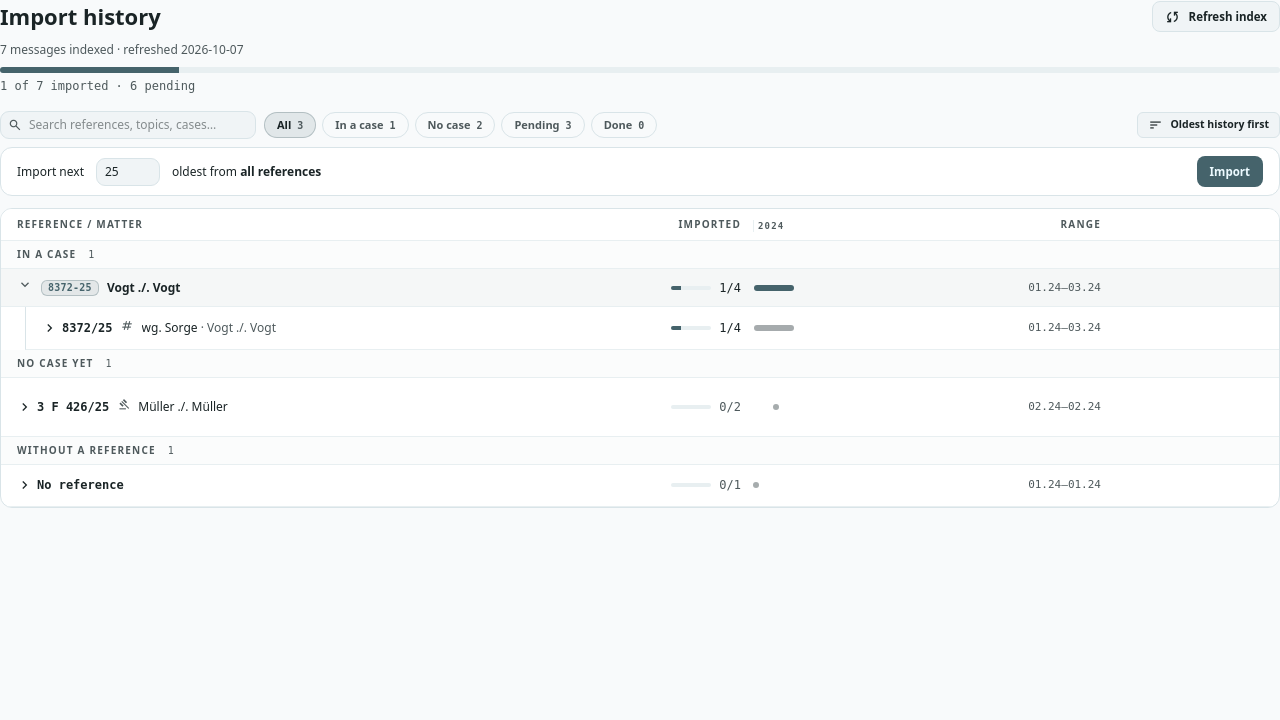
Test: import: expanding a group shows its messages, already imported ones cannot be picked
Click the button named "Expand 8372/25": (77, 328) [42,319,113,337]
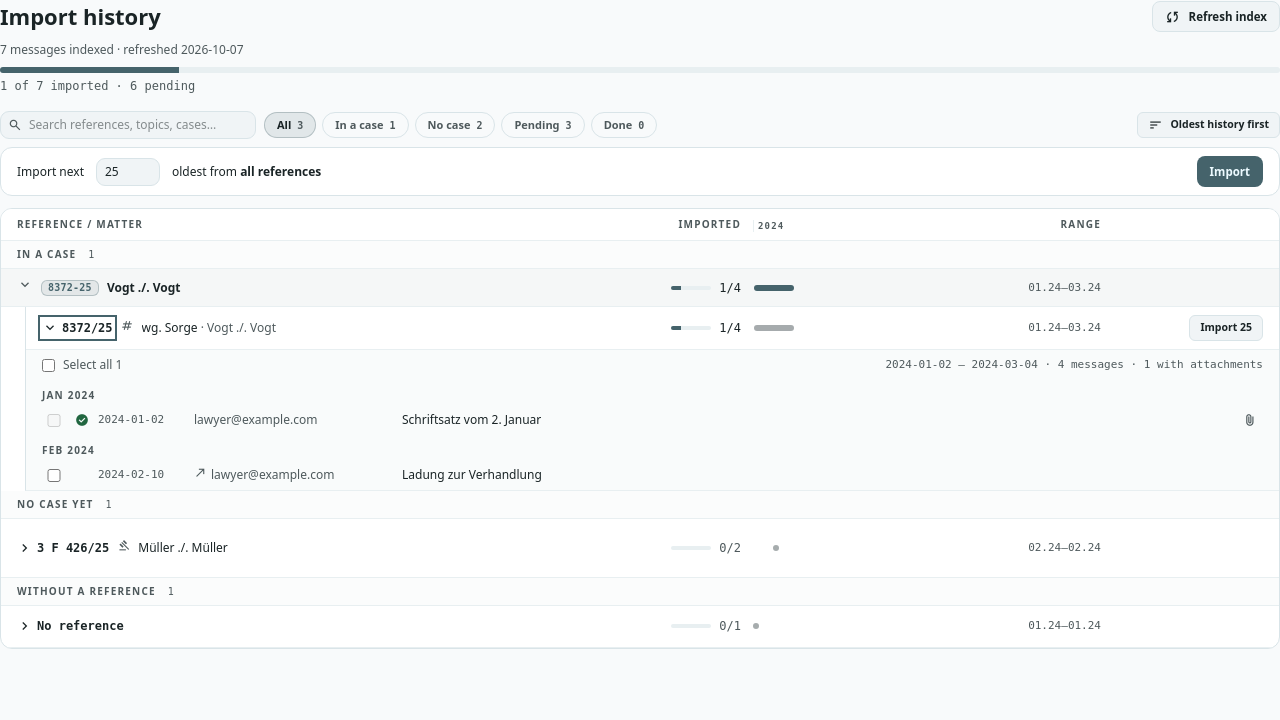
Expected: the text "Ladung zur Verhandlung" is shown, [402,466,542,483]
Expected: the checkbox named "Select Schriftsatz vom 2. Januar" is disabled, [42,414,66,426]
Click the checkbox named "Select Ladung zur Verhandlung": (54, 475) [42,468,66,482]
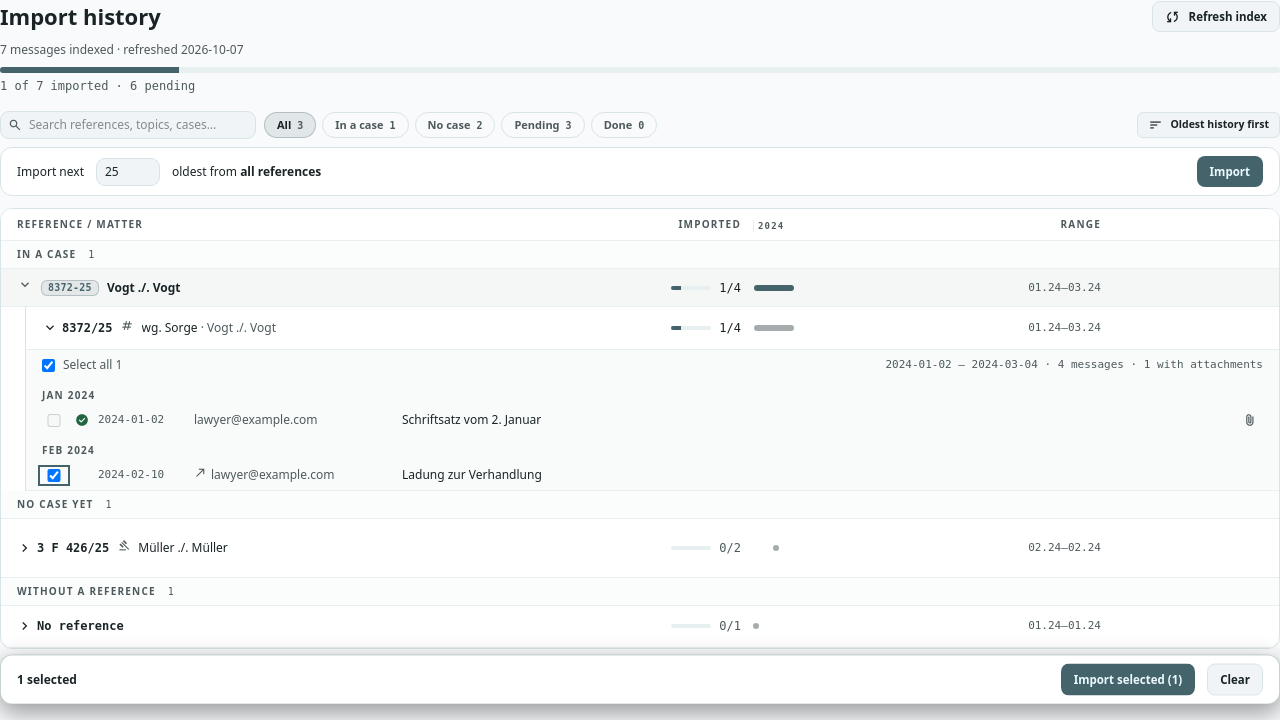
Click the button "Import selected (1)": (1128, 679) [1061,664,1195,695]
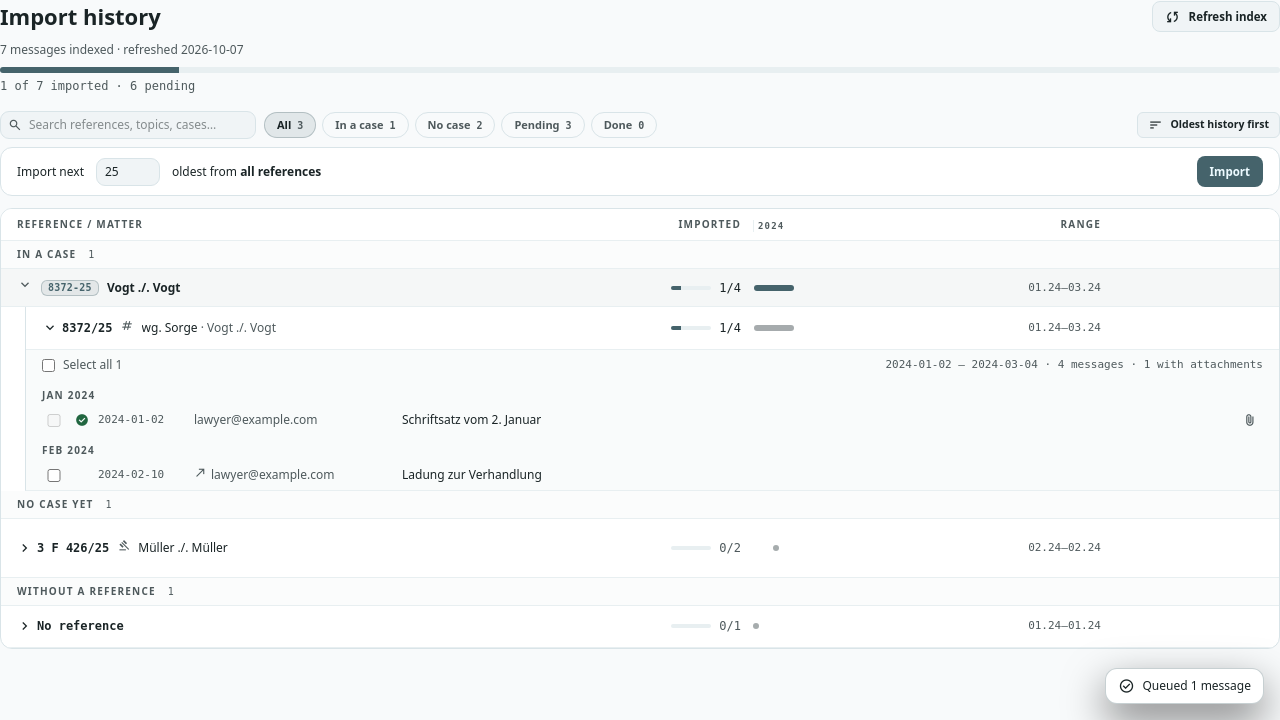
Expected: the message reads "Queued 1 message", [1142,677,1251,694]
